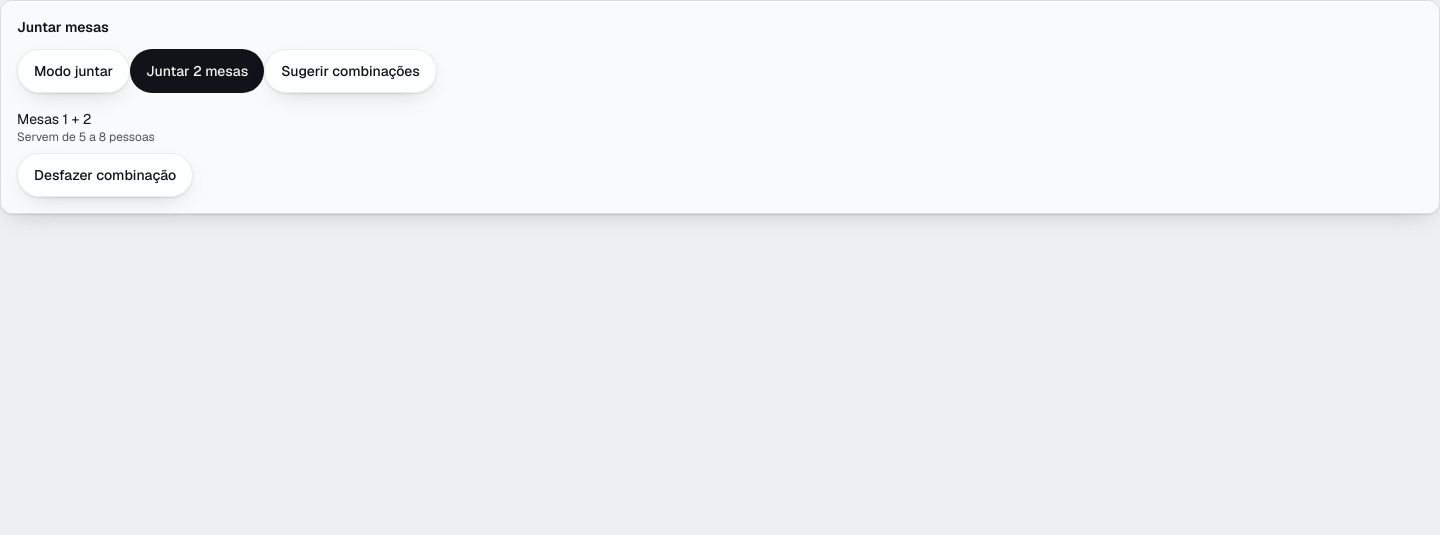
CombinacoesPainel › recusa duplicatas
The width and height of the screenshot is (1440, 535).
Click the button "Juntar 2 mesas": (197,71) [130,49,264,93]
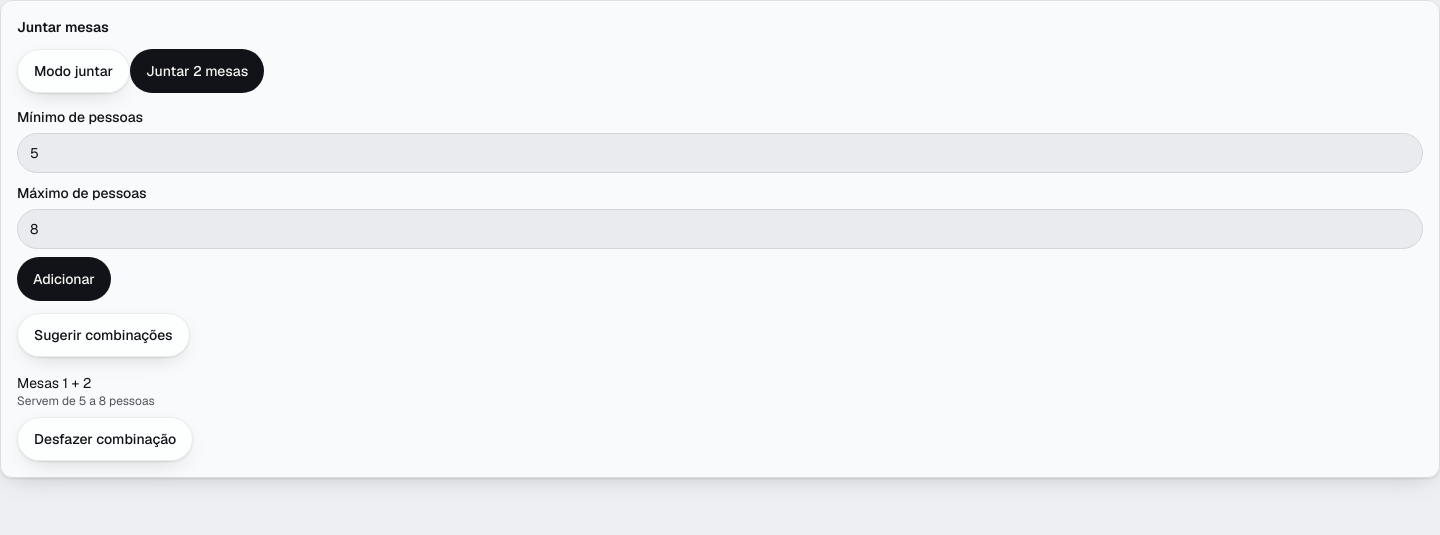
Click the button "Adicionar": (64,279) [17,257,111,301]
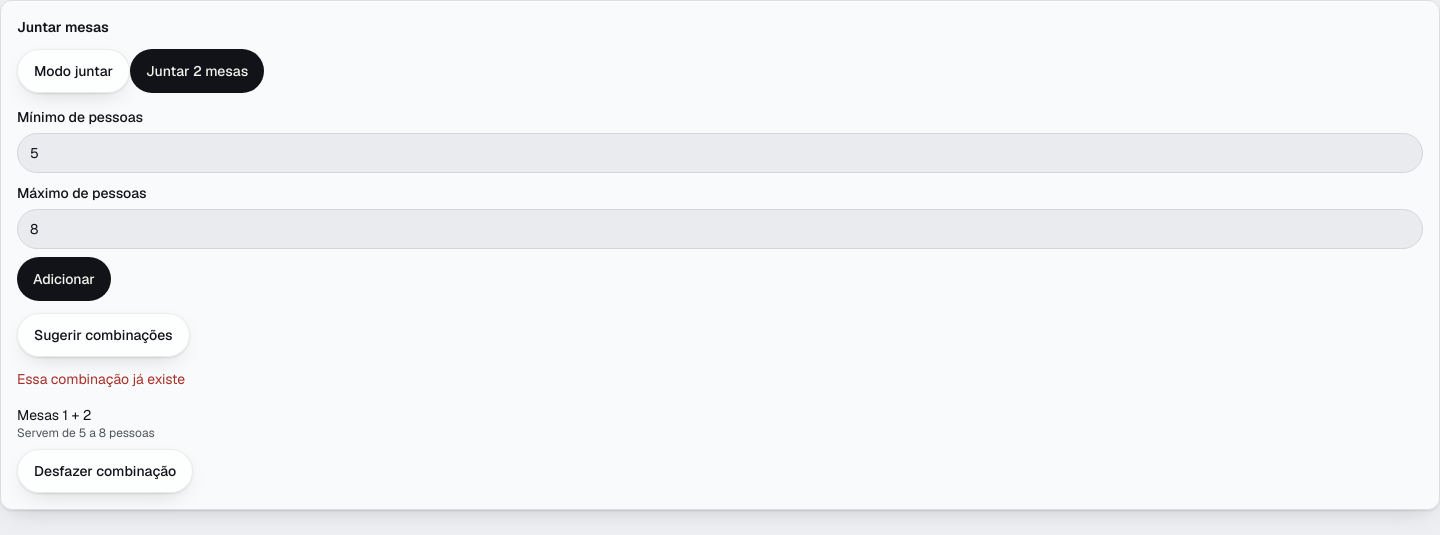
Result: the message reads "Essa combinação já existe" at [17,370,185,388]
